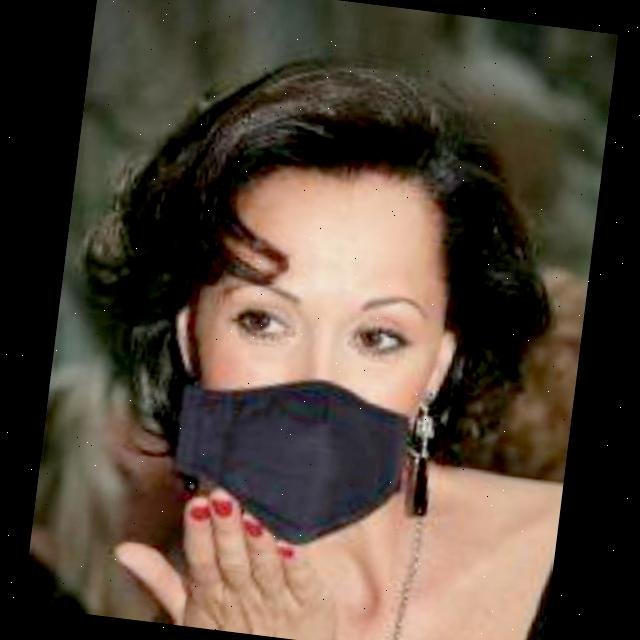suspicion: (99, 71, 512, 558)
